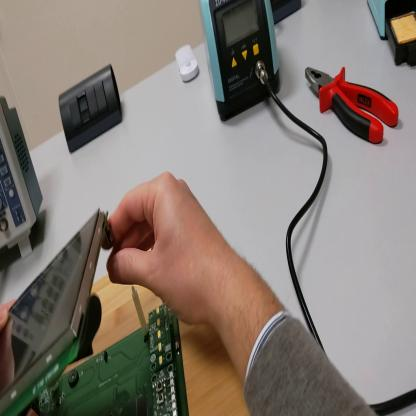hand: (108, 173, 227, 331), (1, 302, 17, 397)
low voltage board: (2, 210, 189, 414)
oscilloscope: (2, 97, 44, 263)
pliers: (304, 66, 401, 146)
socket: (273, 2, 303, 26)
welder base: (368, 4, 415, 70)
welder station: (199, 1, 283, 125)
working area: (97, 271, 251, 416)
